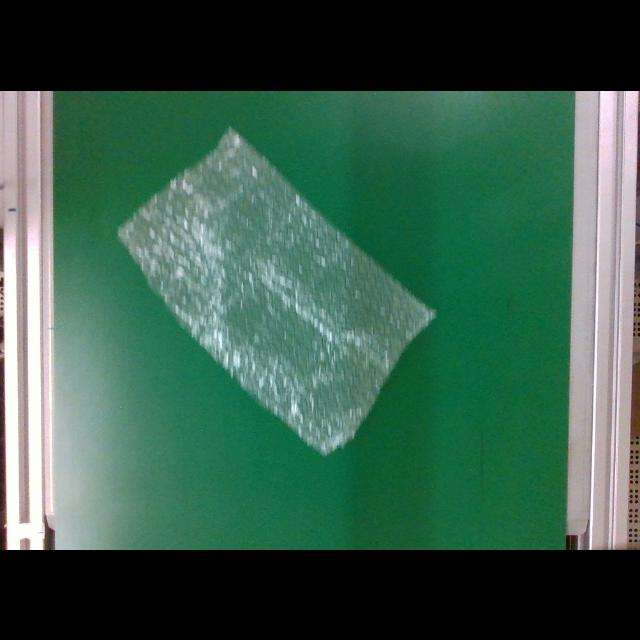scrap_plastic: (115, 121, 437, 463)
